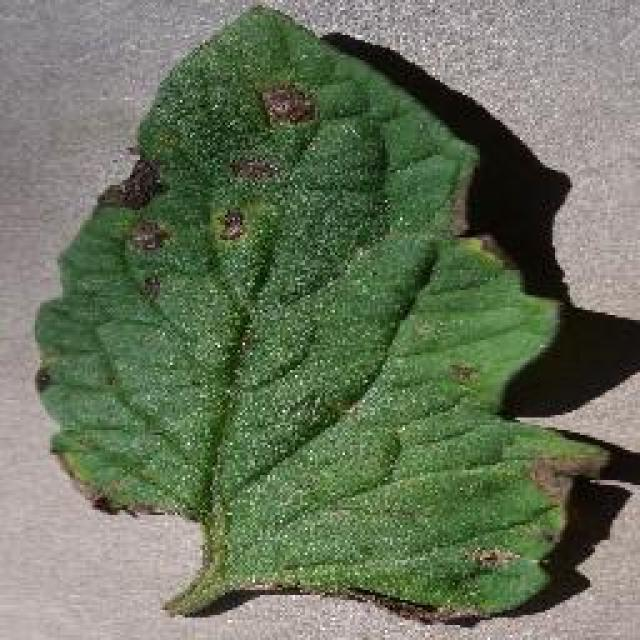Tomato Early blight leaf: (39, 4, 610, 624)
